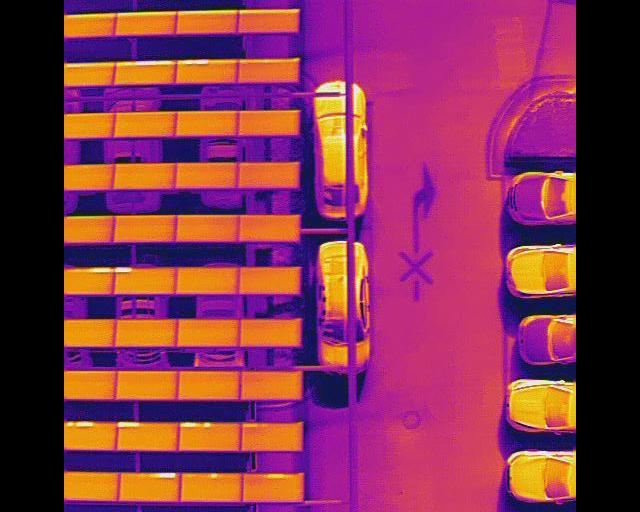Cell: (180, 471, 244, 501)
No-Anomaly: (241, 368, 303, 399), (178, 368, 241, 398), (239, 420, 304, 449), (112, 213, 177, 242), (176, 317, 240, 346), (174, 265, 240, 293), (174, 214, 240, 242), (240, 317, 303, 346), (115, 369, 178, 398), (238, 266, 301, 294), (175, 161, 240, 188), (238, 213, 300, 241), (114, 161, 177, 188), (64, 471, 120, 501), (114, 318, 176, 345), (175, 8, 238, 34), (238, 161, 301, 187), (114, 110, 177, 136), (237, 58, 300, 83), (238, 110, 301, 135), (113, 10, 176, 35), (175, 110, 239, 134), (236, 8, 299, 32), (64, 369, 116, 398), (64, 318, 115, 346), (64, 110, 115, 136), (64, 215, 113, 242), (64, 162, 113, 189), (64, 12, 116, 36), (64, 60, 114, 83)
Unclassified: (117, 421, 179, 451), (119, 470, 181, 500), (113, 264, 175, 293), (242, 471, 303, 500), (179, 422, 242, 450), (64, 420, 117, 449), (174, 59, 239, 82), (113, 60, 178, 83), (64, 266, 114, 294)
